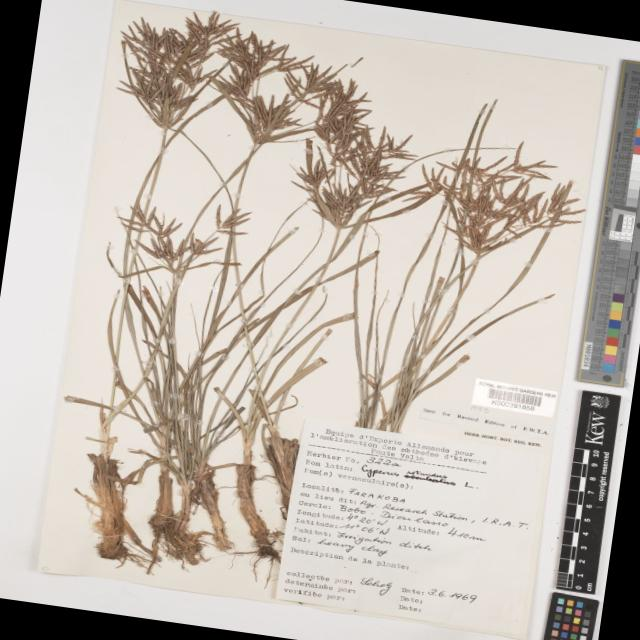cyperus: (100, 1, 423, 233), (408, 134, 590, 264), (105, 189, 252, 295)
